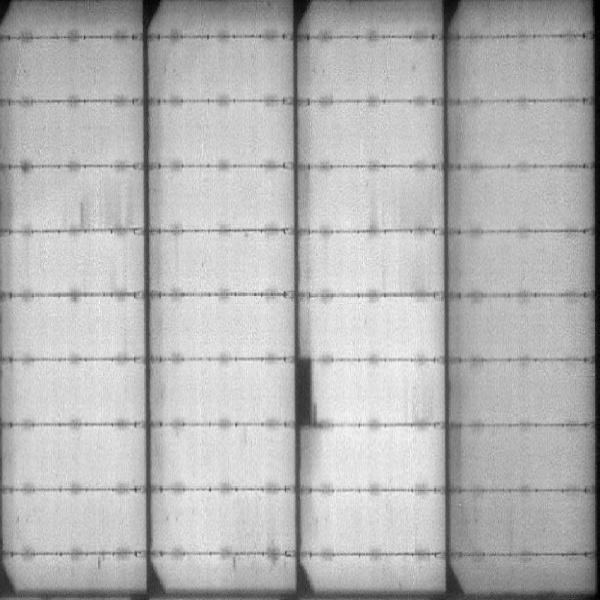black_border: (290, 351, 315, 429)
